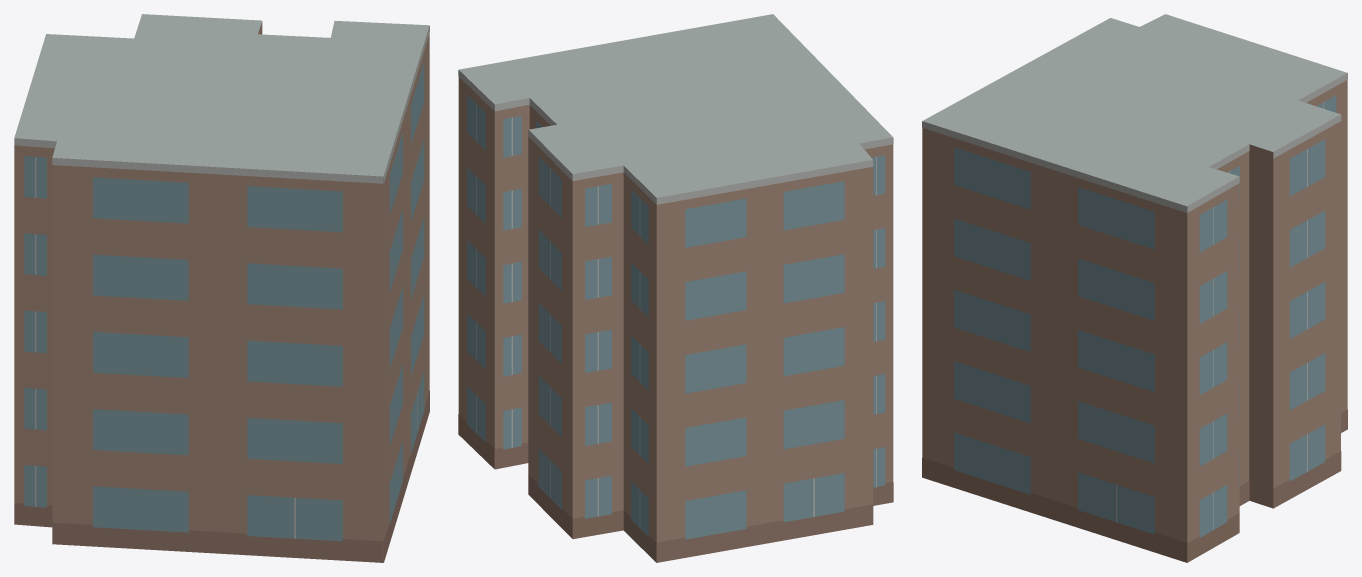
Rendered from survey-upis-33027121.glb.
3 views of the same model, side by side, from view 1: azimuth 30°, elevation 25°; view 2: azimuth 150°, elevation 25°; view 3: azimuth 270°, elevation 25° (orthographic). The views are drawn at different scales.
Parts seen in each view (by area): view 1: survey-upis-33027121.tmp; view 2: survey-upis-33027121.tmp; view 3: survey-upis-33027121.tmp.
Part boxes in pixels (x1,y1,x2,y2): survey-upis-33027121.tmp: (14,14,429,562); survey-upis-33027121.tmp: (458,14,893,562); survey-upis-33027121.tmp: (922,14,1347,562).
Bounding box in the file's own units: 15.17 × 13.1 × 14.18.
